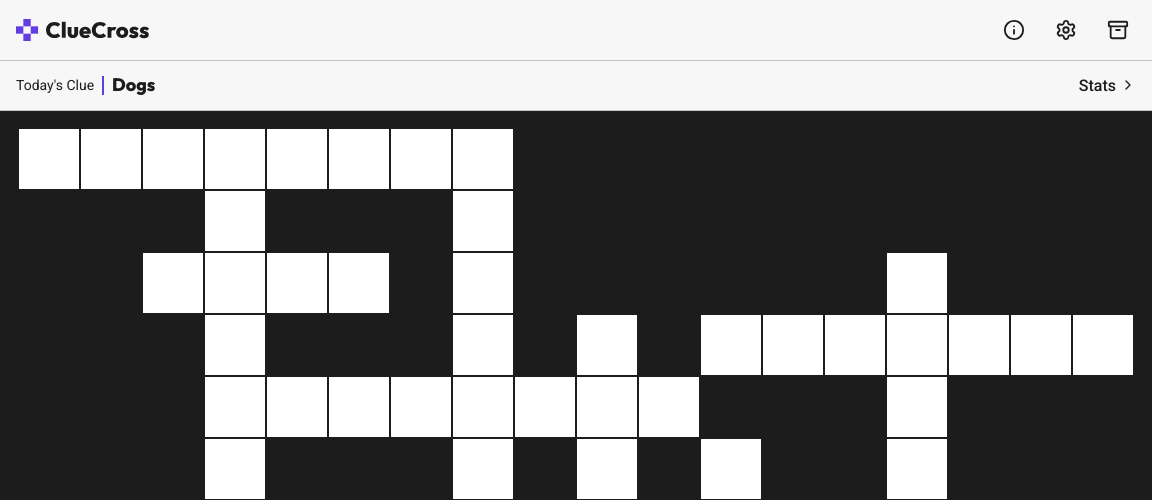
Test case: Mobile layout › navigates to Archive via the header icon, selecting a date returns to Puzzle
Click the button named "archive". click: click(1118, 30)
box: x1=1100 y1=12 x2=1136 y2=48
(page scrolled)
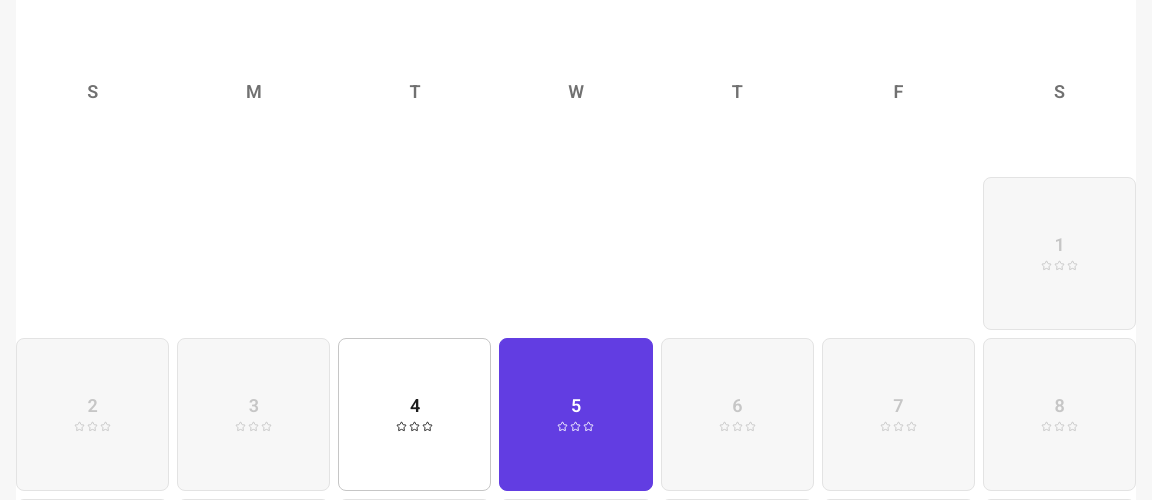
Click the button named "open puzzle for august 4, 2026". click: click(415, 415)
box: x1=338 y1=338 x2=491 y2=491
(page scrolled)
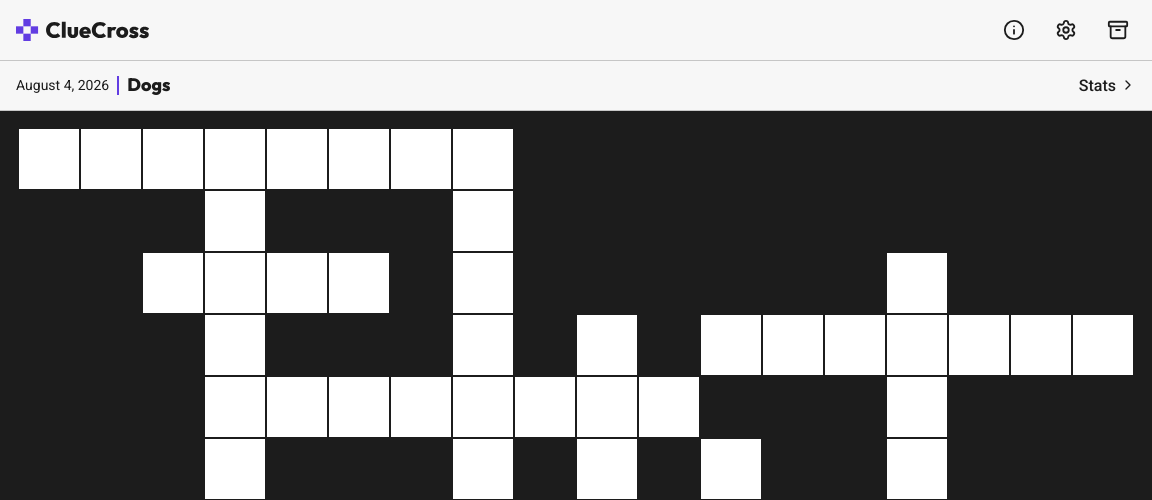
Expected: the text "August 4, 2026" is shown, x1=16 y1=76 x2=119 y2=95
Expected: the field with test id "^cell-" is shown, x1=19 y1=129 x2=79 y2=189
